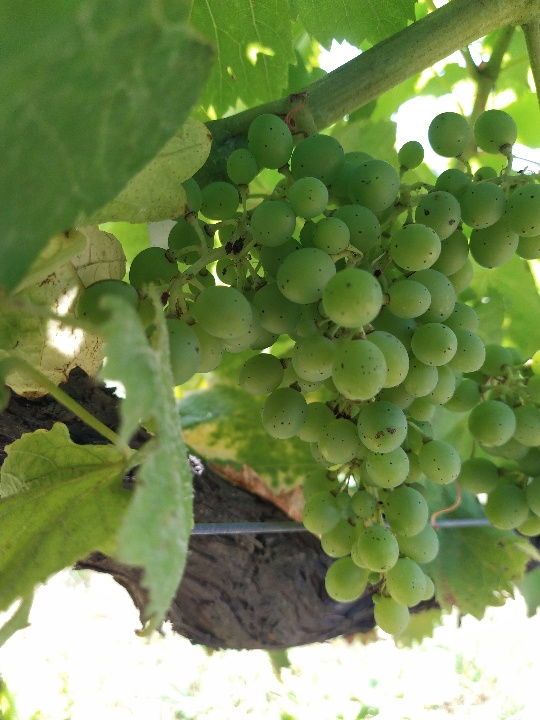grape: (69, 108, 536, 639)
